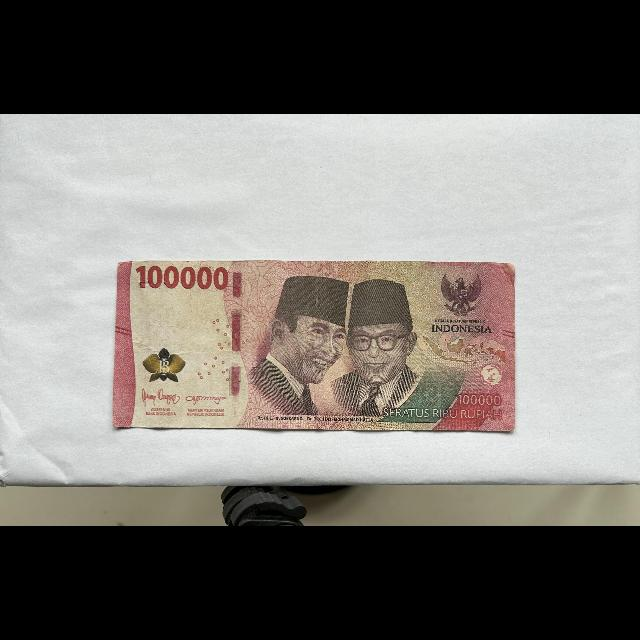Palsu-100k: (111, 257, 517, 436)
Tinta-Palsu-100k: (142, 347, 187, 384)
